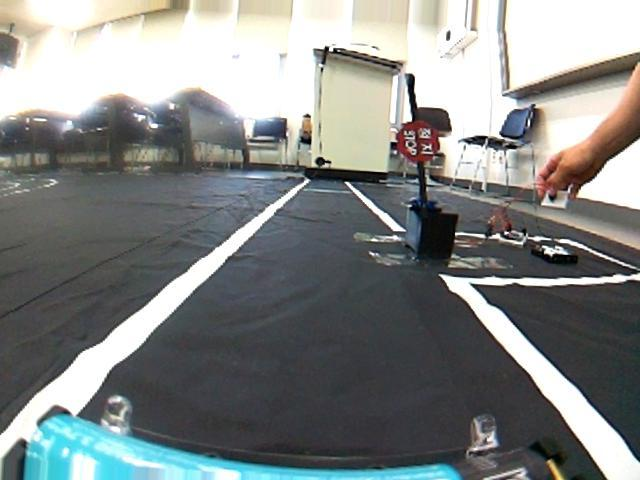sign_stop: (395, 120, 440, 164)
straight: (4, 202, 640, 480)
